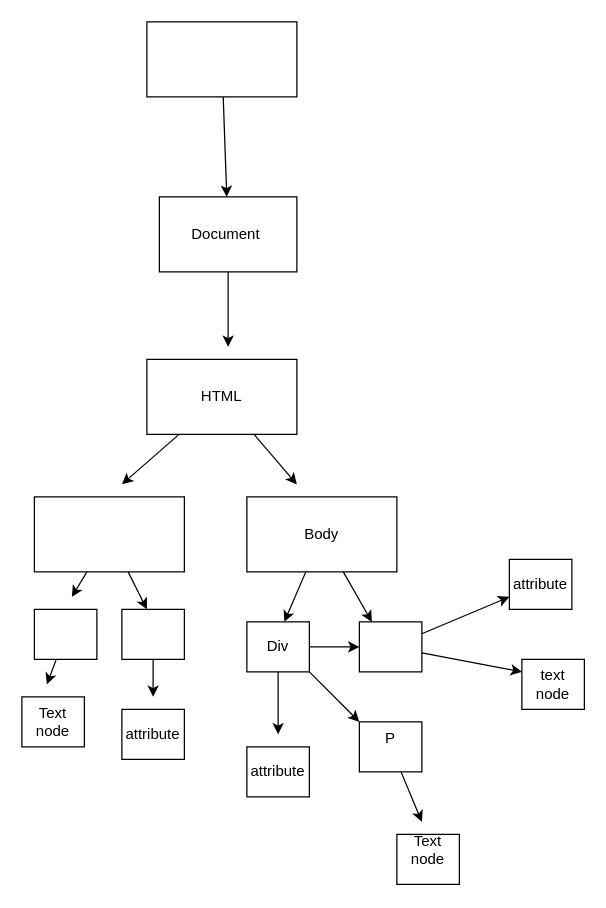
Some shapes in this 606 by 908 pixel diagram are drawn without their labels. The box of each missing label's shape, as (x1, y1, x2, y2) in pixels:
H1: (358, 621, 422, 672)
Head: (33, 496, 184, 572)
meta: (121, 608, 184, 659)
Title: (33, 608, 97, 659)
Window: (146, 21, 297, 97)
